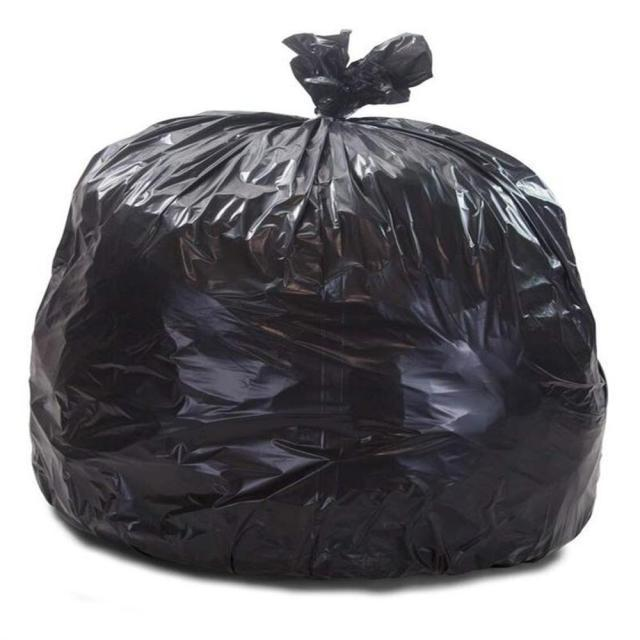Garbage_Bag: (35, 22, 608, 592)
